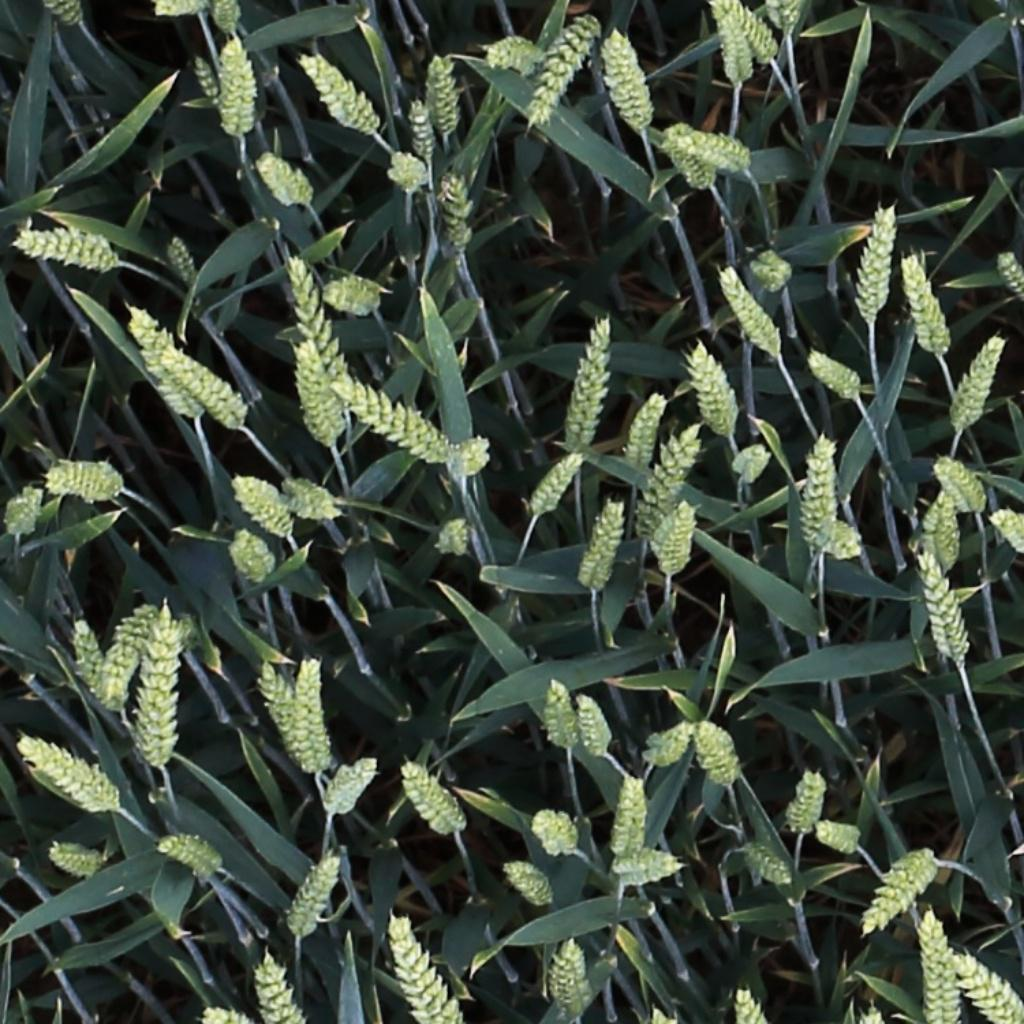0-0: (120, 298, 200, 420), (334, 380, 453, 462), (16, 738, 135, 818), (527, 10, 603, 131), (283, 251, 350, 386), (141, 610, 195, 772), (637, 421, 707, 543), (387, 913, 461, 1024), (255, 659, 320, 775), (565, 312, 617, 454), (163, 345, 249, 428), (864, 849, 942, 936), (300, 53, 380, 135), (916, 550, 972, 666), (948, 330, 1007, 432), (101, 606, 158, 709), (793, 422, 836, 552), (727, 266, 788, 357), (286, 849, 345, 942), (402, 760, 469, 839), (901, 249, 948, 357), (15, 223, 122, 269), (607, 27, 652, 136), (907, 486, 959, 579), (861, 199, 899, 326), (69, 615, 117, 715), (692, 337, 738, 441), (950, 951, 1021, 1018), (297, 334, 338, 449), (528, 445, 588, 522), (299, 647, 336, 769), (581, 496, 626, 595), (718, 0, 783, 64), (232, 476, 297, 539), (626, 386, 670, 477), (613, 846, 696, 894), (661, 127, 716, 195), (281, 476, 347, 532), (223, 38, 259, 140), (924, 906, 955, 1024), (932, 453, 989, 517), (545, 933, 587, 1019), (322, 263, 383, 322), (803, 506, 867, 562), (255, 146, 312, 208), (693, 722, 744, 791), (326, 756, 379, 821), (256, 951, 301, 1024), (573, 689, 615, 764), (613, 774, 647, 865), (45, 457, 126, 495), (679, 133, 762, 170), (662, 495, 697, 581), (719, 5, 755, 87), (428, 50, 460, 141), (230, 525, 274, 591), (187, 49, 229, 117), (486, 24, 544, 73), (379, 151, 430, 205), (546, 673, 578, 759), (808, 349, 864, 398), (791, 767, 828, 841), (4, 480, 46, 543), (443, 165, 472, 255), (532, 809, 581, 862), (162, 228, 202, 292), (503, 864, 557, 910), (647, 723, 700, 768), (406, 92, 438, 166), (745, 846, 795, 890), (453, 430, 494, 483), (158, 839, 218, 875), (992, 244, 1024, 305), (988, 507, 1024, 557), (737, 441, 775, 488), (733, 977, 765, 1024), (47, 849, 105, 873), (441, 512, 469, 561), (816, 826, 864, 854), (771, 0, 800, 40), (756, 253, 792, 284), (47, 1, 84, 28), (214, 0, 247, 30), (199, 1006, 249, 1024), (155, 0, 204, 17)
